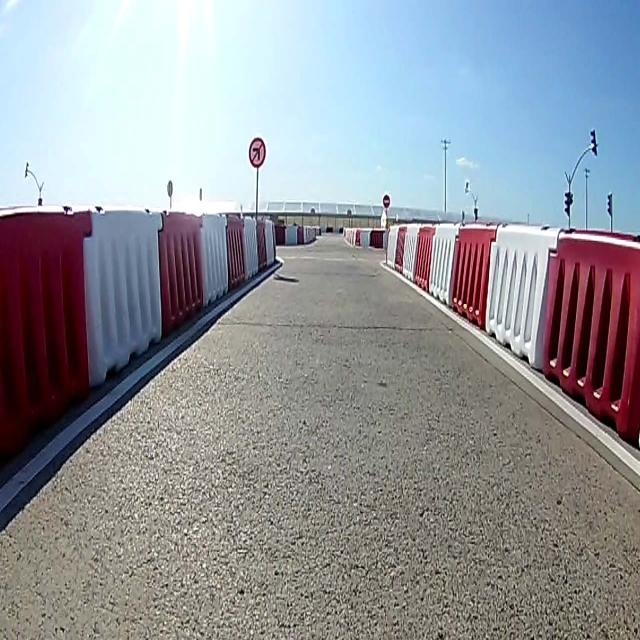girisyok: (383, 191, 389, 207)
soladonulmez: (247, 136, 267, 168)
